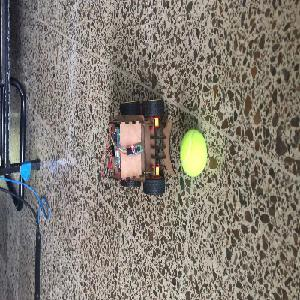Ball: (178, 130, 208, 177)
Robot: (107, 99, 174, 195)
